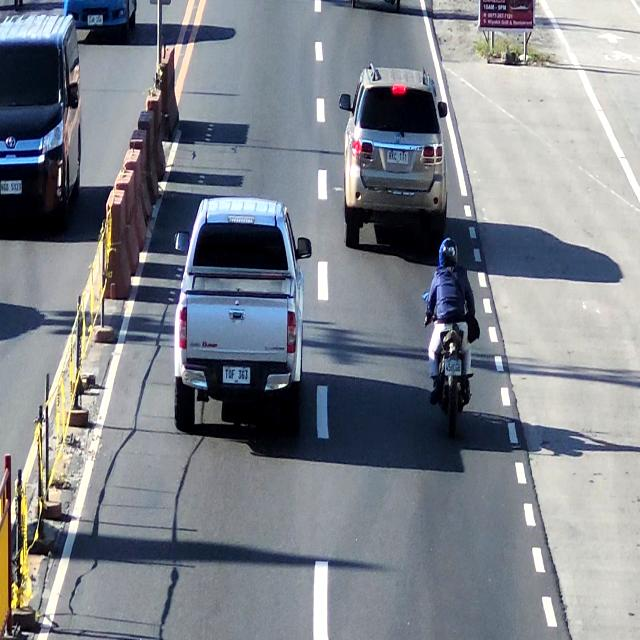Car: (174, 194, 306, 441), (341, 62, 451, 255)
License-Plate: (221, 364, 251, 391), (442, 358, 466, 383), (385, 150, 410, 167)
Motorcycle: (422, 237, 480, 455)
